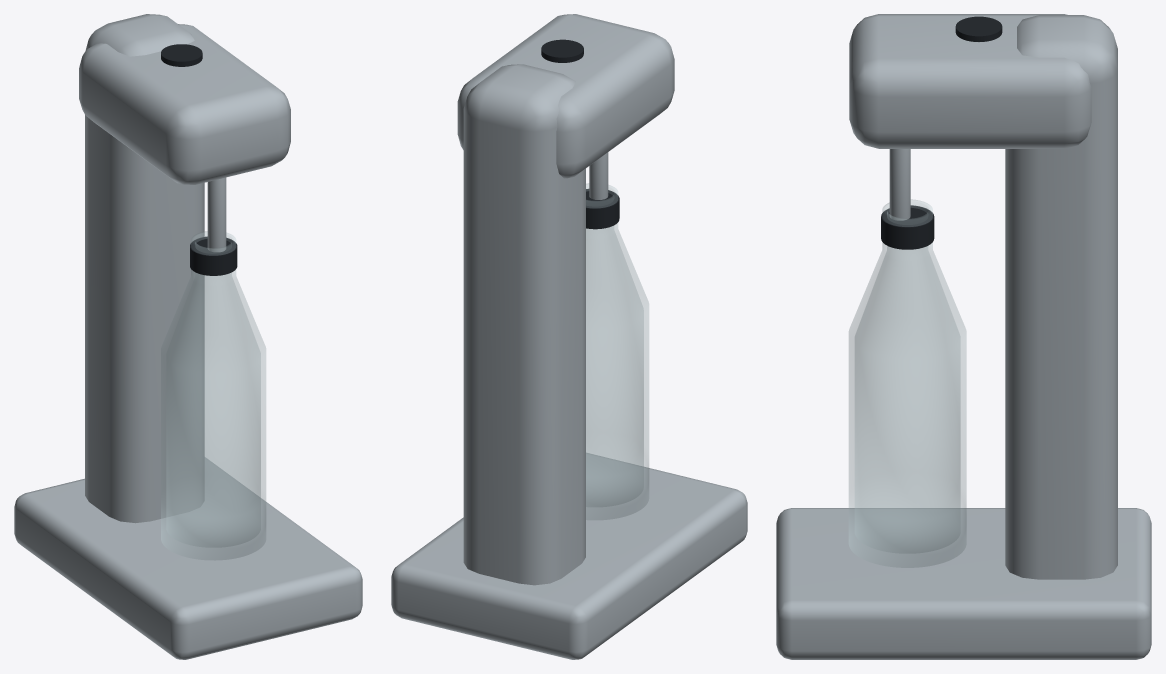
File: sparkling-water-maker.glb
The picture shows the model from 3 angles, left to right: view 1: azimuth 30°, elevation 25°; view 2: azimuth 150°, elevation 25°; view 3: azimuth 270°, elevation 25°; orthographic projection. The views are drawn at different scales.
Parts seen in each view (by area): view 1: catalog_surface_RealismUV, catalog_surface_UVMap; view 2: catalog_surface_RealismUV, catalog_surface_UVMap; view 3: catalog_surface_RealismUV, catalog_surface_UVMap.
Part boxes in pixels (x1,y1,x2,y2): catalog_surface_RealismUV: (14, 14, 362, 659); catalog_surface_UVMap: (161, 231, 265, 560); catalog_surface_RealismUV: (391, 14, 747, 659); catalog_surface_UVMap: (586, 183, 648, 519); catalog_surface_RealismUV: (776, 14, 1151, 659); catalog_surface_UVMap: (849, 199, 966, 567).
Bounding box in the file's own units: 0.19 × 0.5 × 0.29.
